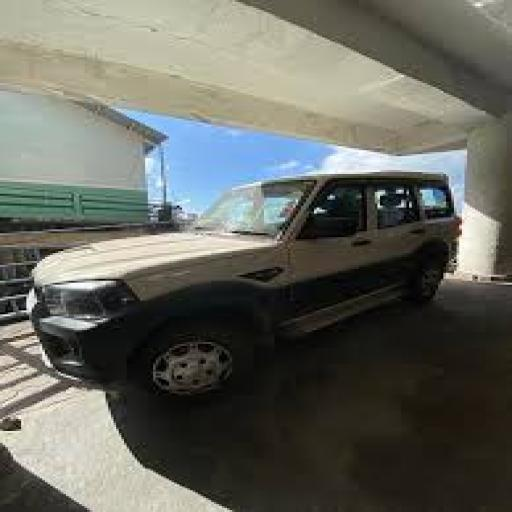car: (2, 162, 500, 416)
